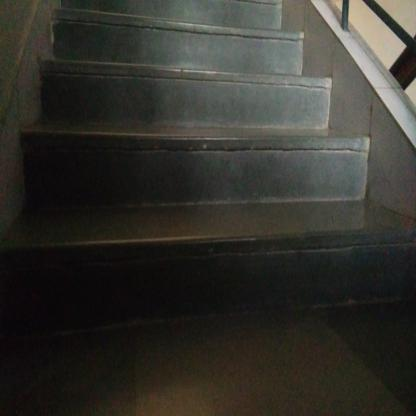stairs: (63, 35, 300, 335)
